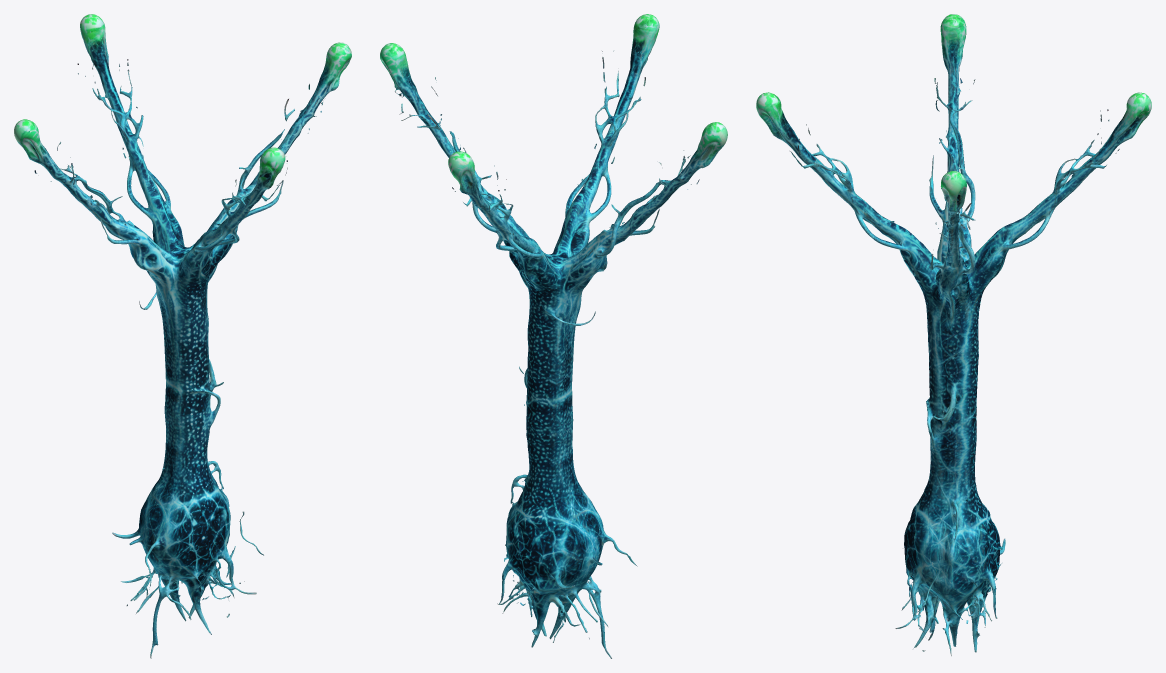
File: node-project.glb
3 views of the same model, side by side, from view 1: azimuth 30°, elevation 25°; view 2: azimuth 150°, elevation 25°; view 3: azimuth 270°, elevation 25° (orthographic). The views are drawn at different scales.
Visible parts, largest first — view 1: Mesh_0; view 2: Mesh_0; view 3: Mesh_0.
Part boxes in pixels (<box>): Mesh_0: <box>14,14,351,658</box>; Mesh_0: <box>380,14,727,658</box>; Mesh_0: <box>756,14,1151,655</box>.
Bounding box in the file's own units: 1.2 × 1.91 × 1.2.
1 material, 1 textured.
